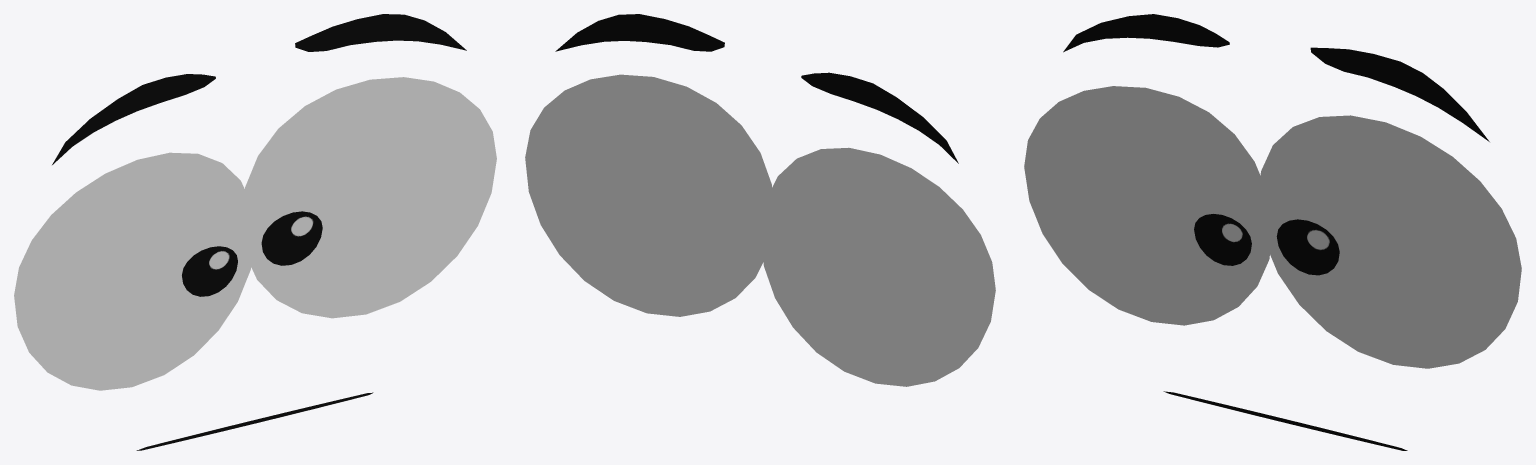
The model's file is NL_hideidle1.FBX.
3 views of the same model, side by side, from view 1: azimuth 30°, elevation 25°; view 2: azimuth 150°, elevation 25°; view 3: azimuth 330°, elevation 25° (orthographic). The views are drawn at different scales.
Parts seen in each view (by area): view 1: EYES, MOUTH; view 2: EYES; view 3: EYES, MOUTH.
Boxes of the visible parts, <box> form: EYES: <box>14,14,496,390</box>; MOUTH: <box>136,392,373,450</box>; EYES: <box>525,14,995,386</box>; EYES: <box>1024,14,1521,368</box>; MOUTH: <box>1163,391,1407,450</box>.
Bounding box in the file's own units: 49.96 × 38.28 × 1.62.
